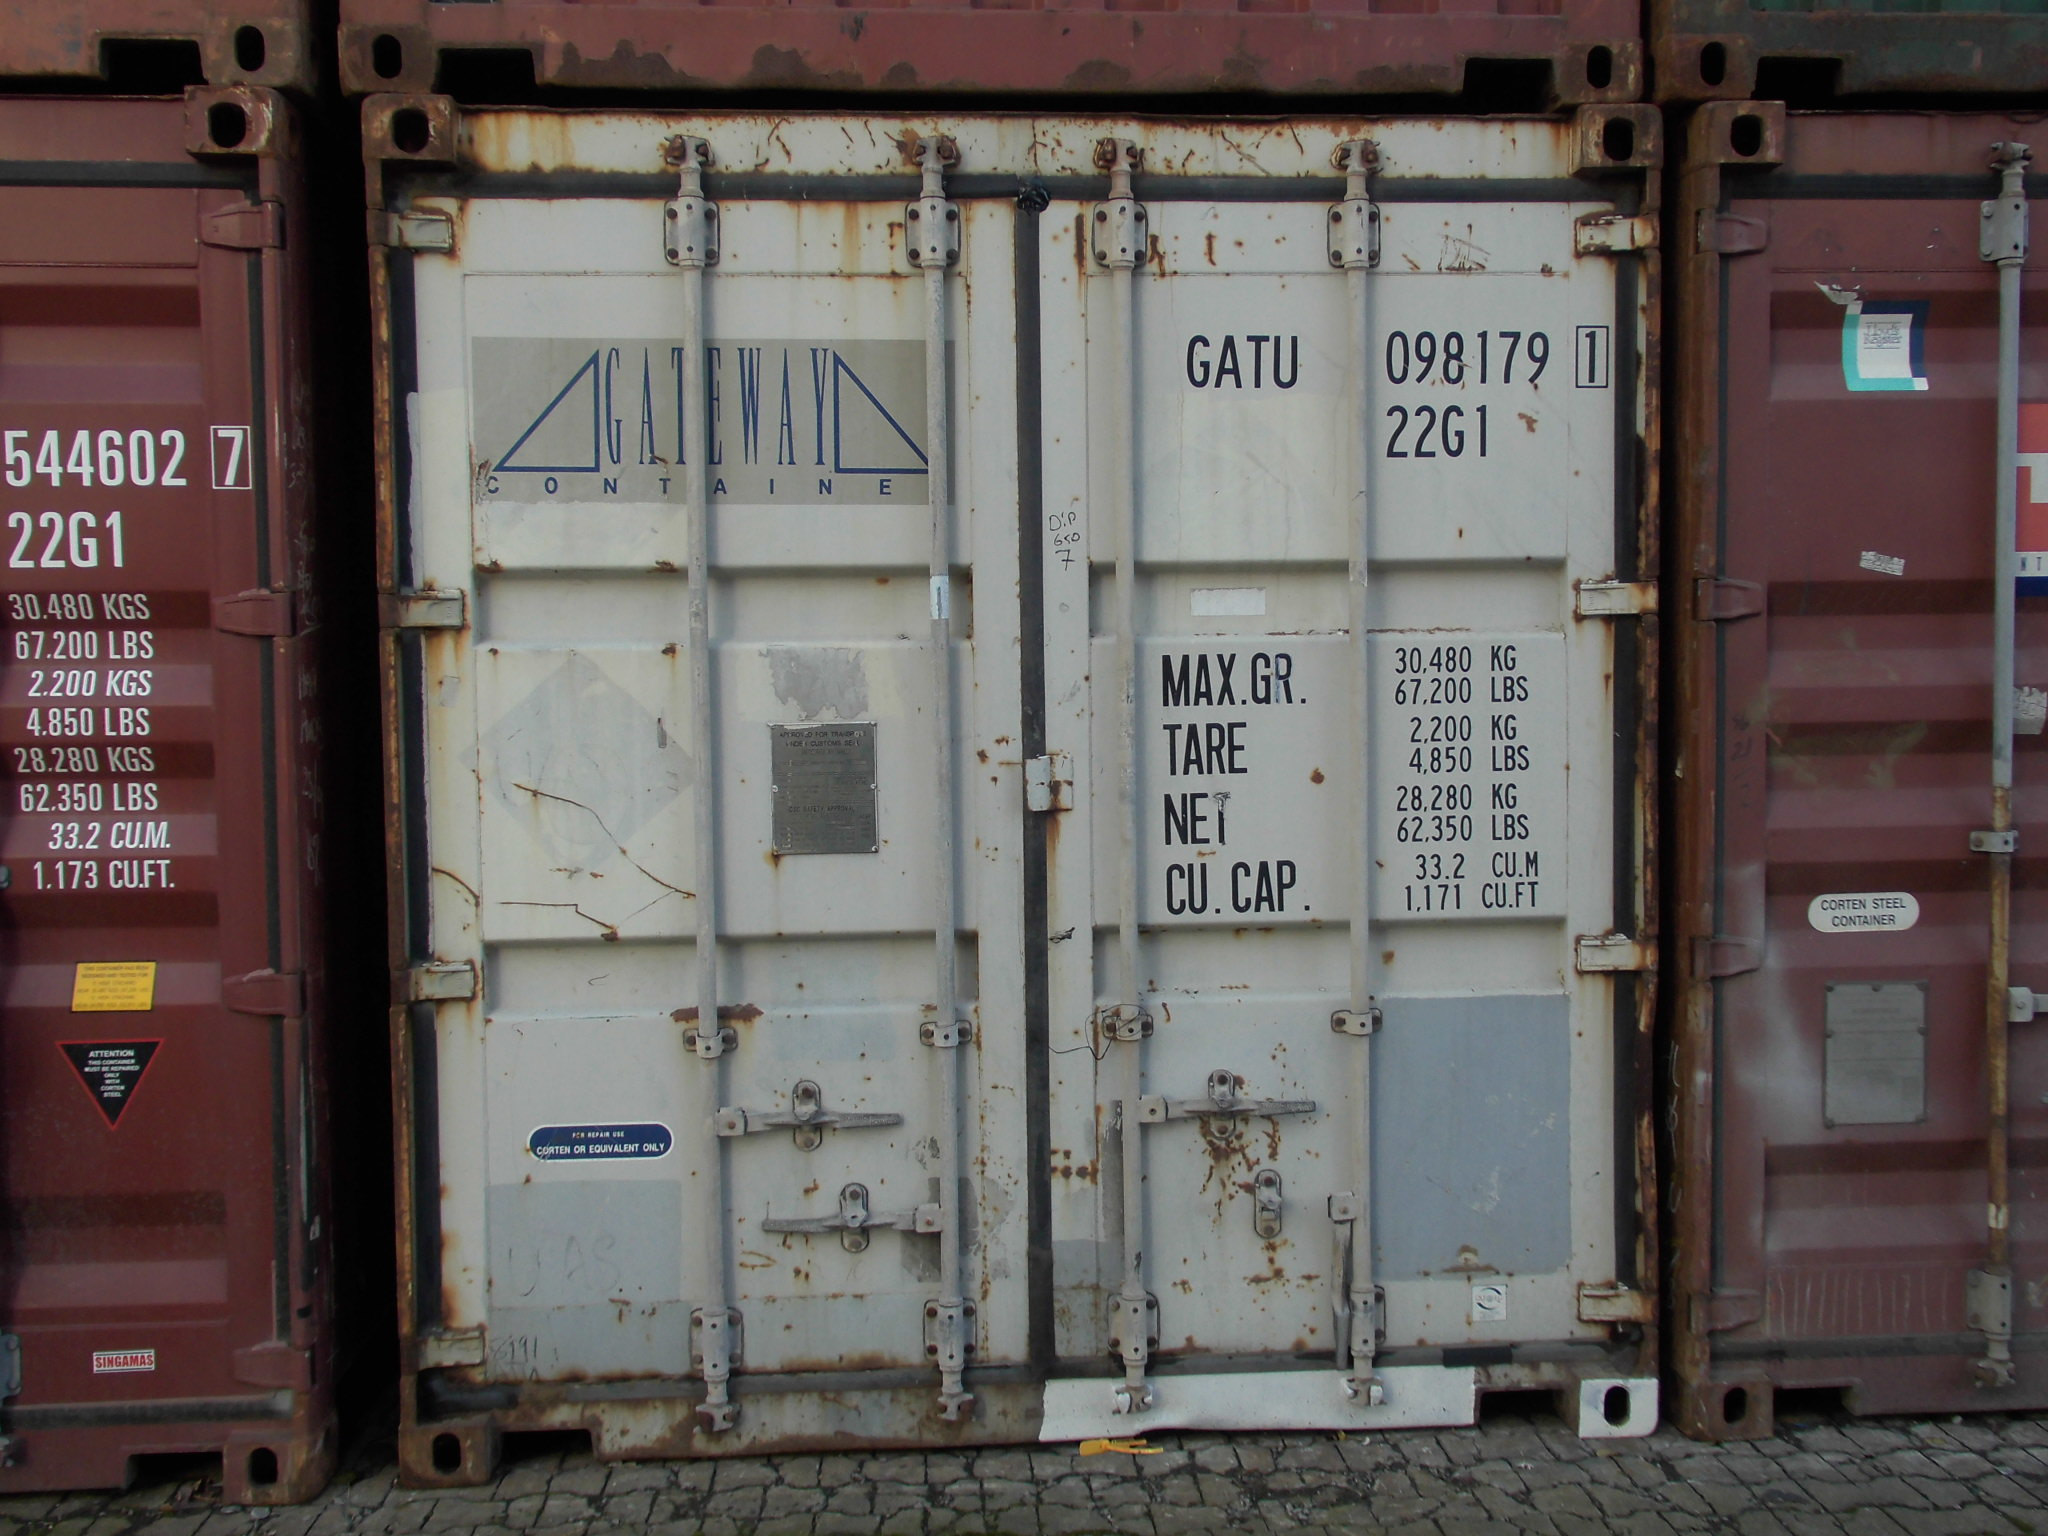container_door: (368, 90, 1664, 1446)
